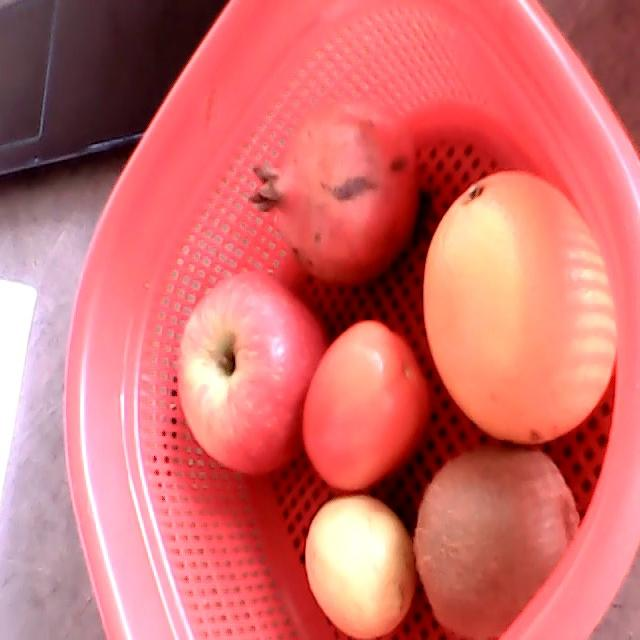apple: (175, 270, 328, 475)
kiwi: (417, 446, 581, 637)
lemon: (304, 493, 416, 639)
orange: (424, 169, 617, 444)
pomegranate: (249, 87, 418, 286)
tomato: (303, 319, 430, 492)
